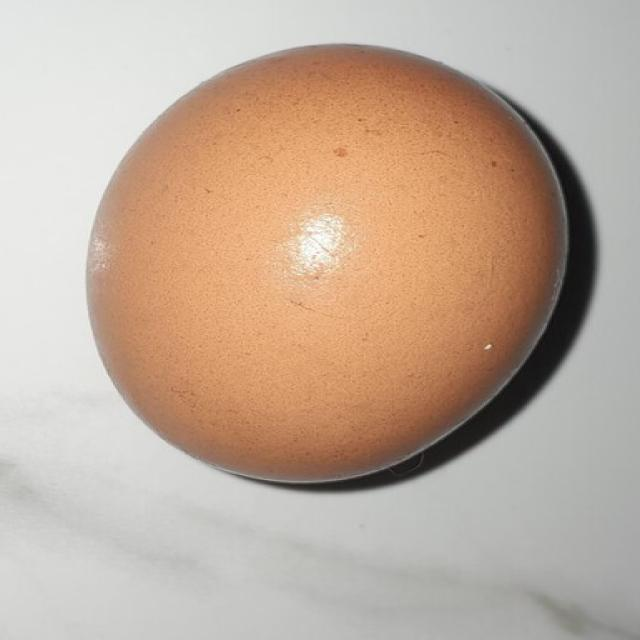unfresh: (76, 40, 570, 490)
